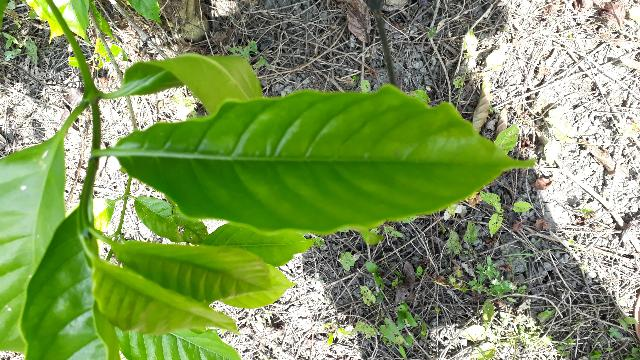healthy: (102, 78, 545, 237)
